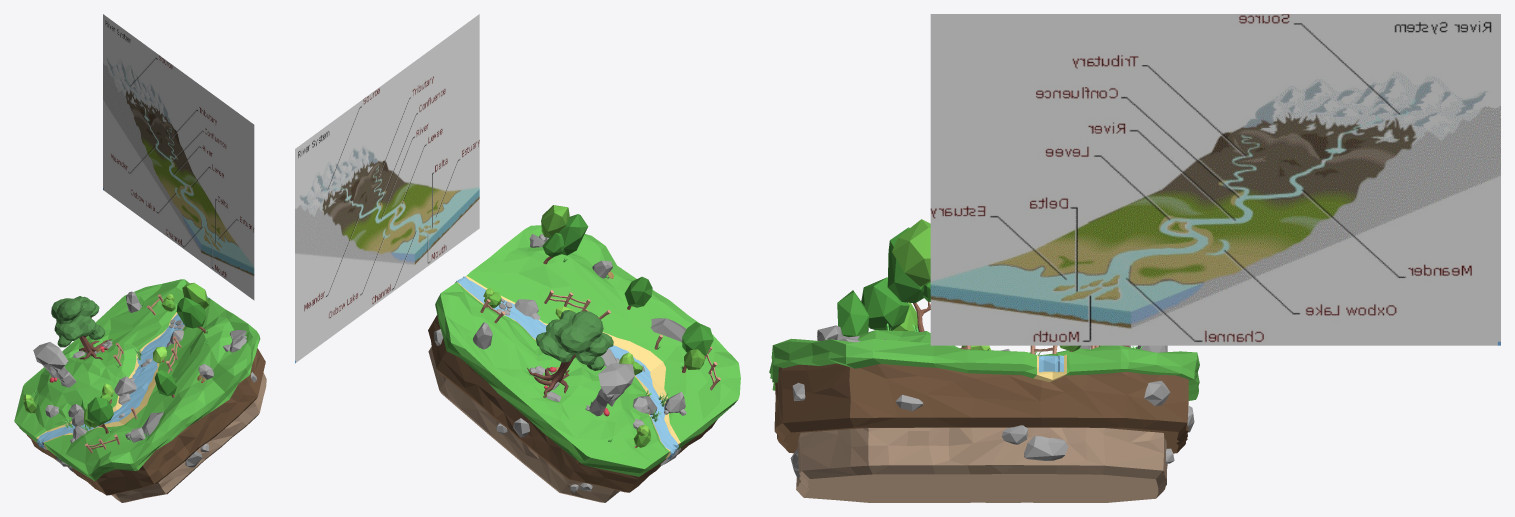
Rendered from river.glb.
The picture shows the model from 3 angles, left to right: view 1: azimuth 30°, elevation 25°; view 2: azimuth 150°, elevation 25°; view 3: azimuth 270°, elevation 25°; orthographic projection. The views are drawn at different scales.
Parts seen in each view (by area): view 1: river_inner_info, Plane.001, Cube.002, Mball.016, Cube.003, Plane.003, Cube.030, Cube, Cube.035, Icosphere.019, Cube.008, Icosphere.008; view 2: river_inner_info, Plane.001, Cube.002, Mball.016, Cube.003, Plane.003, Cube.030, Cube, Cube.035, Icosphere.019, Icosphere.008; view 3: river_inner_info, Cube.003, Cube.002, Plane.001, Cube.030, Cube.035, Icosphere.019, Icosphere.000.
Boxes of the visible parts, bbox=[...] form: river_inner_info: bbox=[103, 14, 254, 300]; Plane.001: bbox=[14, 279, 260, 480]; Cube.002: bbox=[26, 348, 265, 495]; Mball.016: bbox=[51, 296, 111, 359]; Cube.003: bbox=[111, 372, 266, 502]; Plane.003: bbox=[37, 296, 209, 449]; Cube.030: bbox=[176, 282, 208, 333]; Cube: bbox=[33, 342, 76, 387]; Cube.035: bbox=[84, 397, 113, 433]; Icosphere.019: bbox=[154, 370, 176, 397]; Cube.008: bbox=[114, 376, 136, 396]; Icosphere.008: bbox=[142, 412, 163, 436]; river_inner_info: bbox=[295, 14, 479, 363]; Plane.001: bbox=[435, 225, 740, 476]; Cube.002: bbox=[428, 315, 717, 492]; Mball.016: bbox=[527, 310, 613, 397]; Cube.003: bbox=[428, 347, 619, 502]; Plane.003: bbox=[455, 276, 678, 459]; Cube.030: bbox=[541, 205, 588, 264]; Cube: bbox=[589, 363, 634, 416]; Cube.035: bbox=[682, 322, 713, 372]; Icosphere.019: bbox=[624, 276, 652, 309]; Icosphere.008: bbox=[650, 318, 686, 342]; river_inner_info: bbox=[930, 14, 1500, 345]; Cube.003: bbox=[796, 427, 1167, 502]; Cube.002: bbox=[774, 363, 1188, 453]; Plane.001: bbox=[769, 330, 1199, 400]; Cube.030: bbox=[887, 219, 930, 331]; Cube.035: bbox=[861, 277, 918, 330]; Icosphere.019: bbox=[837, 290, 868, 337]; Icosphere.000: bbox=[1024, 436, 1068, 460].
Size of the model in its own units: 3.62 by 6.07 by 6.44.
Materials: 22 (1 with a texture image).
